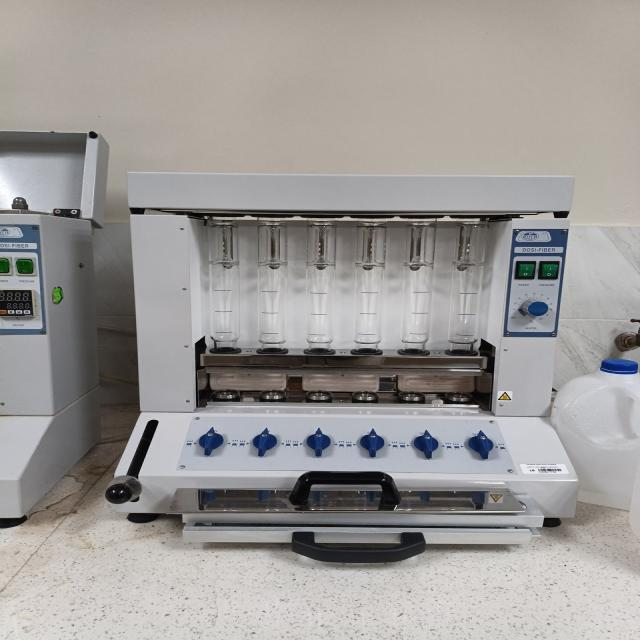Analizador de Fibra Cruda y Fracciones: (106, 172, 577, 563)
